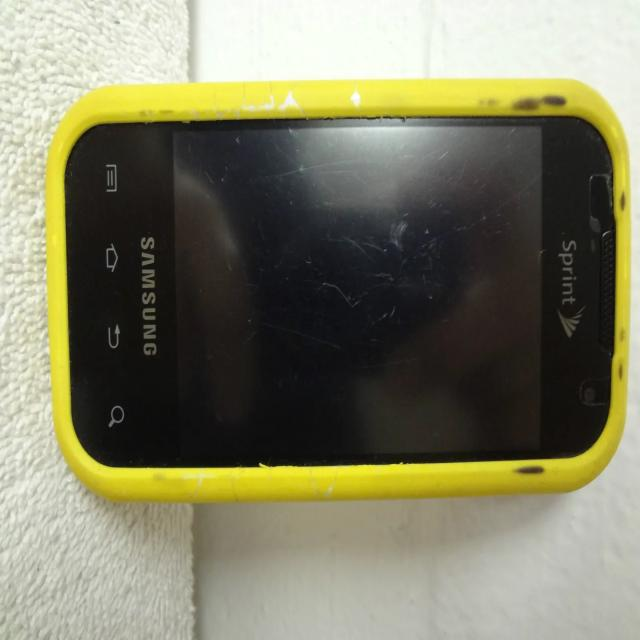Scratches: (272, 142, 459, 334), (274, 321, 299, 331)
